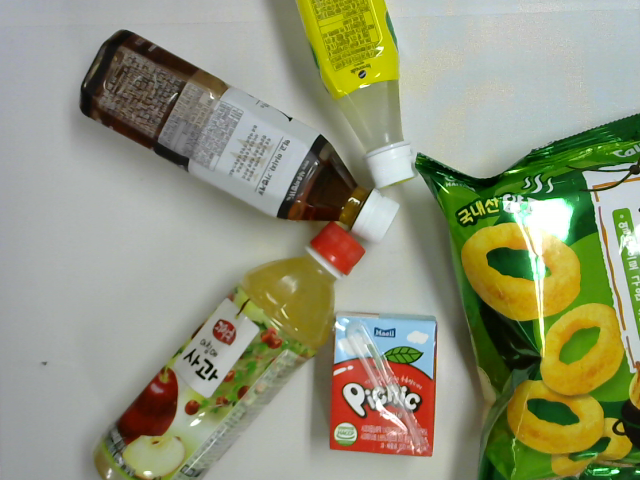Grilled_Onions: (413, 111, 639, 479)
Morning_Apple_500ml: (88, 220, 368, 479)
Picnic_Apple: (327, 308, 439, 459)
Post-meal_recipe_W_tea_500ml: (77, 28, 402, 244)
Sunkist_Lemonaid_Pet: (290, 1, 419, 194)
